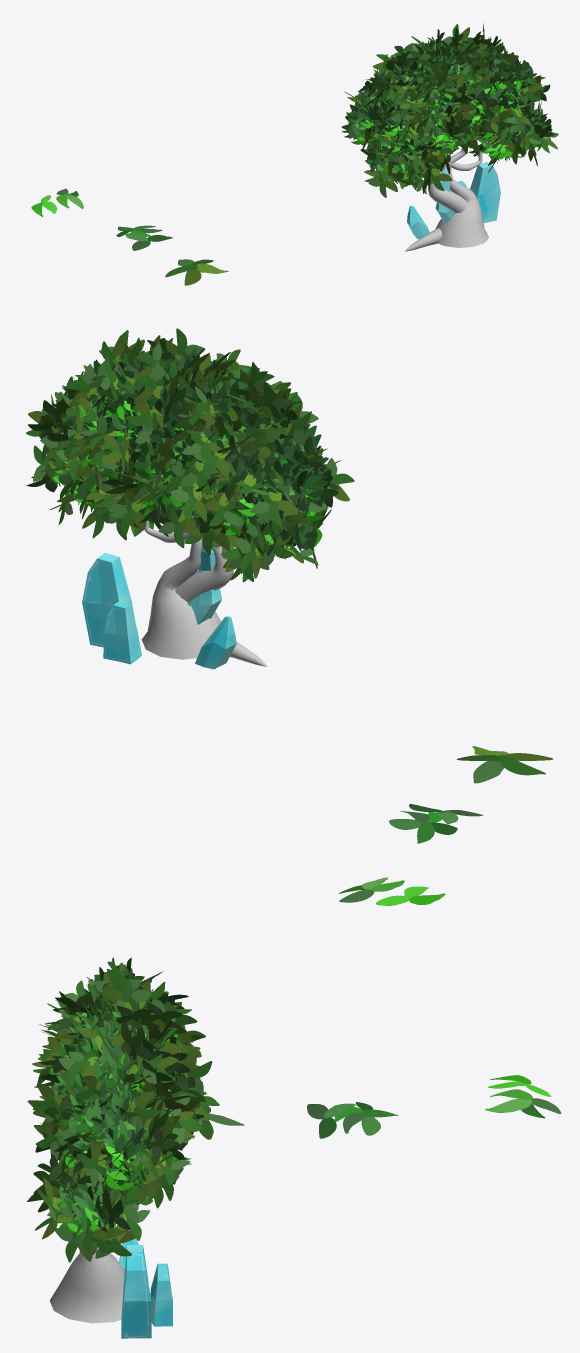
The model's file is pohon whimsical2.fbx.
3 renders of one model, top to bottom at view 1: azimuth 30°, elevation 25°; view 2: azimuth 150°, elevation 25°; view 3: azimuth 270°, elevation 25°, orthographic. The views are drawn at different scales.
Visible parts, largest first — view 1: pohon3.001, batu, daun1, daun2, Plane, daun phon; view 2: batu, pohon3.001, daun1, daun2, Plane, daun phon|daun1|Dupli|368, daun phon|daun1|Dupli|447; view 3: pohon3.001, batu, daun2, Plane, daun phon|daun1|Dupli|429, daun phon|daun1|Dupli|76, daun phon|daun1|Dupli|133, daun phon|daun1|Dupli|89, daun phon|daun1|Dupli|416, daun phon|daun1|Dupli|32, daun phon|daun1|Dupli|129, daun phon|daun1|Dupli|204 (+6 smaller).
Boxes of the visible parts, box(x1,y1,x2,y2) form: pohon3.001: box(405, 144, 489, 251); batu: box(407, 162, 500, 239); daun1: box(165, 259, 228, 285); daun2: box(116, 225, 172, 250); Plane: box(31, 188, 83, 216); daun phon: box(363, 69, 520, 167); batu: box(82, 537, 236, 669); pohon3.001: box(141, 520, 267, 666); daun1: box(457, 746, 552, 783); daun2: box(389, 804, 483, 843); Plane: box(339, 877, 445, 905); daun phon|daun1|Dupli|368: box(250, 486, 297, 526); daun phon|daun1|Dupli|447: box(170, 484, 206, 523); pohon3.001: box(49, 1247, 124, 1323); batu: box(119, 1230, 172, 1338); daun2: box(307, 1102, 398, 1138); Plane: box(485, 1075, 561, 1118); daun phon|daun1|Dupli|429: box(103, 975, 151, 1011); daun phon|daun1|Dupli|76: box(120, 1021, 154, 1063); daun phon|daun1|Dupli|133: box(125, 1091, 160, 1136); daun phon|daun1|Dupli|89: box(79, 1139, 107, 1187); daun phon|daun1|Dupli|416: box(181, 1048, 212, 1092); daun phon|daun1|Dupli|32: box(142, 1002, 185, 1033); daun phon|daun1|Dupli|129: box(68, 1050, 102, 1076); daun phon|daun1|Dupli|204: box(27, 1083, 67, 1122).
Bounding box in the file's own units: 1579 × 757 × 1155.
